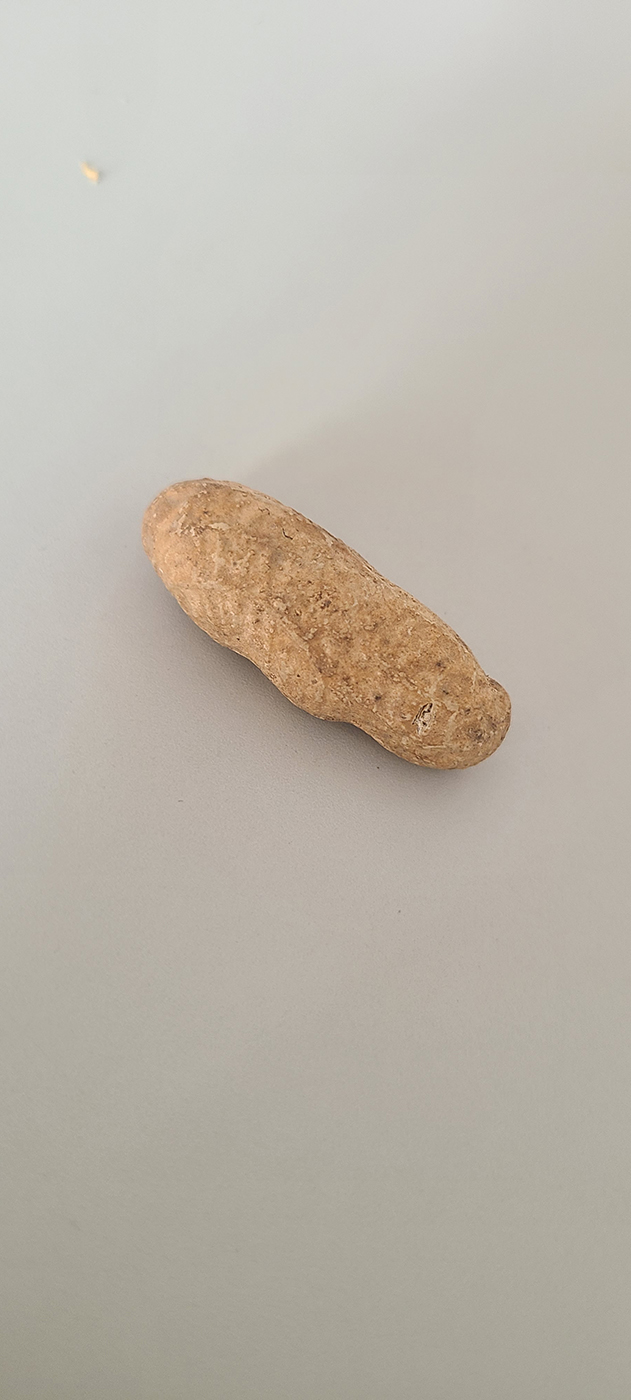h: (135, 471, 513, 770)
